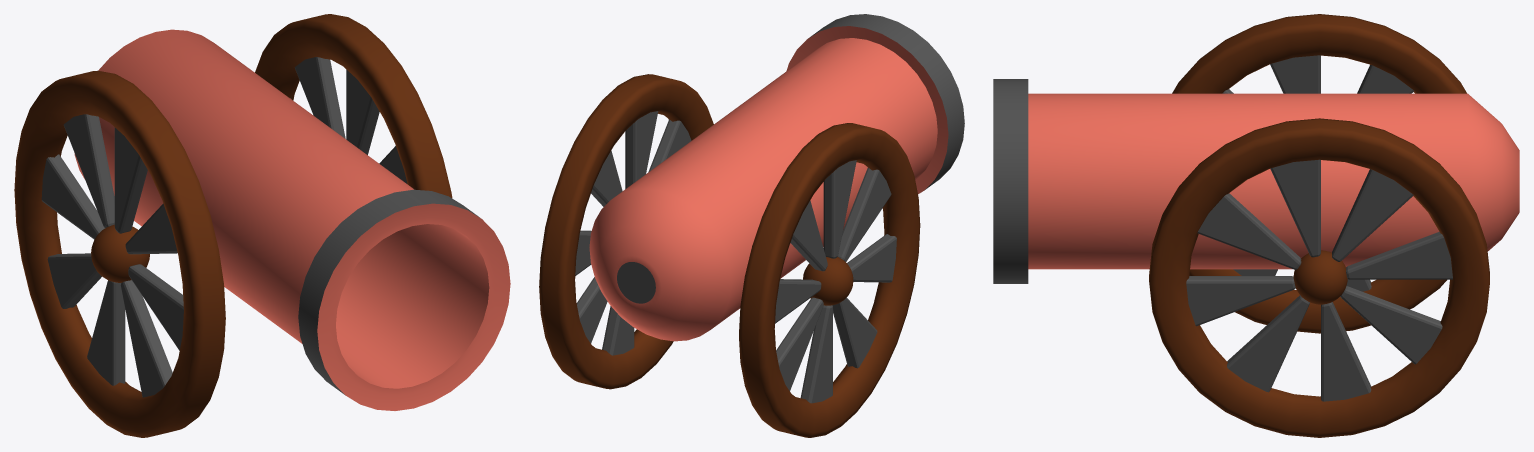
The model's file is Cannon.fbx.
The picture shows the model from 3 angles, left to right: view 1: azimuth 30°, elevation 25°; view 2: azimuth 150°, elevation 25°; view 3: azimuth 270°, elevation 25°; orthographic projection. The views are drawn at different scales.
Parts seen in each view (by area): view 1: Cylinder, Circle.001, Circle, Circle.002, Circle.003, Sphere; view 2: Cylinder, Circle.001, Circle.002, Circle, Circle.003, Sphere; view 3: Cylinder, Circle.002, Circle.003, Circle.001, Circle, Sphere.001.
Part boxes in pixels (x1=…): Cylinder: x1=74, y1=29, x2=510, y2=410; Circle.001: x1=14, y1=70, x2=225, y2=437; Circle: x1=41, y1=114, x2=183, y2=397; Circle.002: x1=255, y1=14, x2=452, y2=197; Circle.003: x1=290, y1=57, x2=407, y2=183; Sphere: x1=91, y1=224, x2=149, y2=282; Cylinder: x1=589, y1=14, x2=964, y2=341; Circle.001: x1=739, y1=123, x2=920, y2=437; Circle.002: x1=539, y1=74, x2=713, y2=389; Circle: x1=775, y1=160, x2=896, y2=403; Circle.003: x1=575, y1=111, x2=691, y2=355; Sphere: x1=803, y1=257, x2=853, y2=305; Cylinder: x1=993, y1=79, x2=1519, y2=283; Circle.002: x1=1149, y1=118, x2=1489, y2=437; Circle.003: x1=1186, y1=159, x2=1452, y2=401; Circle.001: x1=1172, y1=14, x2=1466, y2=333; Circle: x1=1222, y1=55, x2=1413, y2=296; Sphere.001: x1=1293, y1=250, x2=1347, y2=304.
Size of the model in its own units: 202 by 230 by 355.
